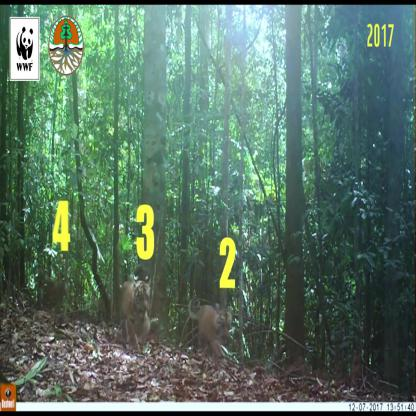Tiger: (182, 280, 236, 366), (116, 271, 154, 368)
